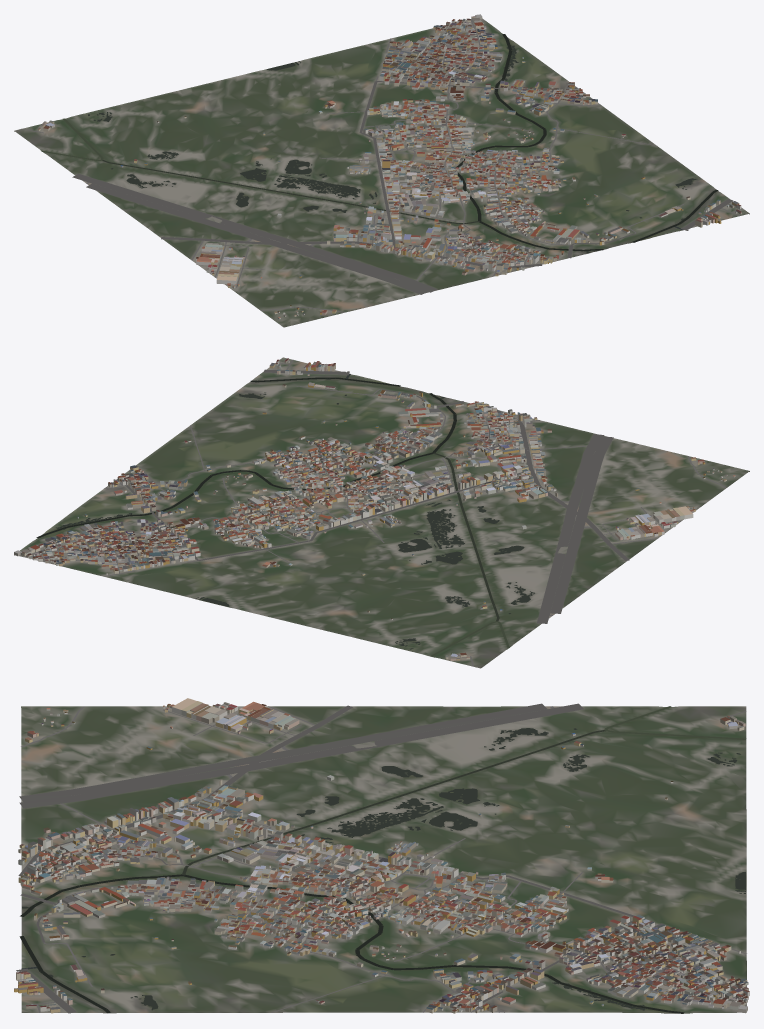
3 views of the same model, one above another, from view 1: azimuth 30°, elevation 25°; view 2: azimuth 150°, elevation 25°; view 3: azimuth 270°, elevation 25° (orthographic). The views are drawn at different scales.
Parts seen in each view (by area): view 1: ground, buildings, roads, water; view 2: ground, buildings, roads, water; view 3: ground, buildings, roads, water.
Boxes of the visible parts, x1,y1,x2,y2 form: ground: (14, 18, 749, 327); buildings: (38, 14, 741, 319); roads: (21, 19, 742, 312); water: (41, 34, 718, 253); ground: (14, 357, 749, 668); buildings: (14, 358, 735, 660); roads: (24, 359, 726, 666); water: (36, 373, 534, 656); ground: (21, 706, 746, 1013); buildings: (14, 698, 749, 1013); roads: (16, 703, 746, 1013); water: (19, 706, 746, 1013).
Size of the model in its own units: 1420 by 26.47 by 1423.
